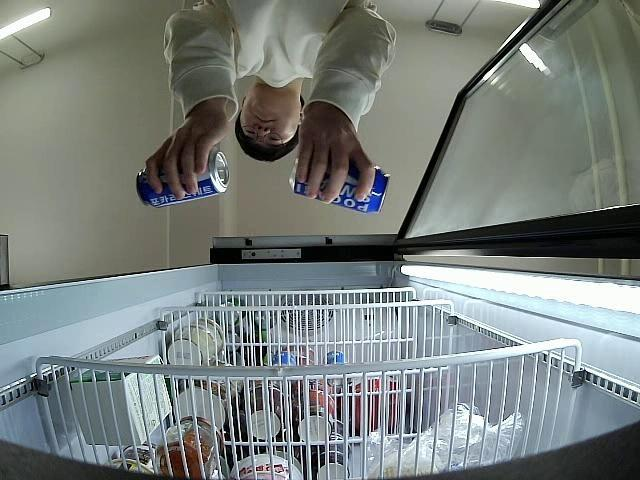13_pocariSweat: (291, 155, 390, 214), (134, 148, 231, 208)
